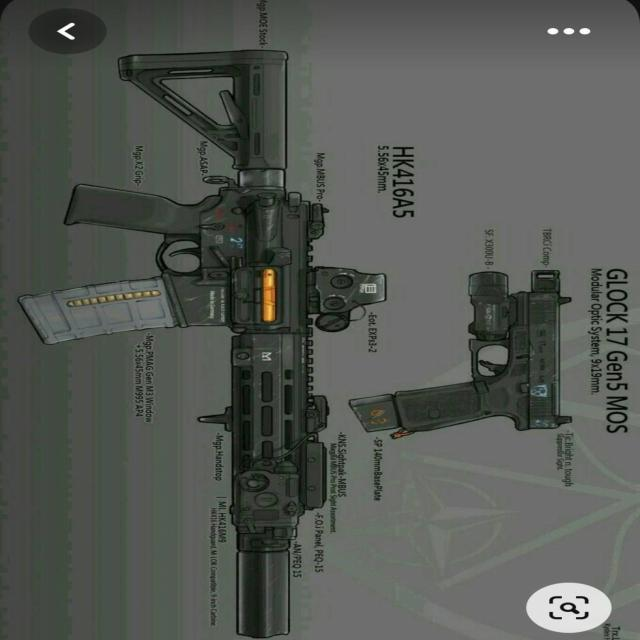m16: (55, 251, 375, 633)
